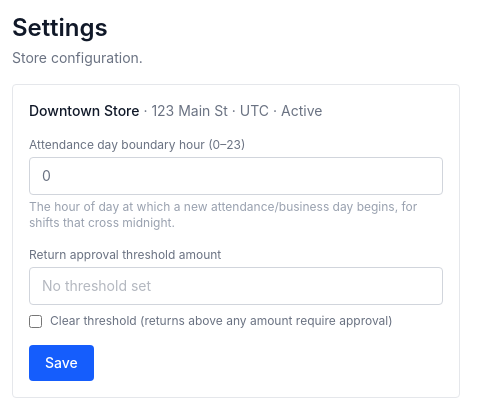
Scenario: SettingsPage › loads the acting user's own store automatically and can save changes
This screenshot has width=477, height=415.
Expected: the heading "Settings" is shown, [12, 13, 108, 42]
Expected: the text "Downtown Store" is shown, [29, 102, 140, 119]
Replace the text in the number field labelled "Attendance day boundary hour (0–23)" with "6": (236, 176) [29, 157, 443, 195]
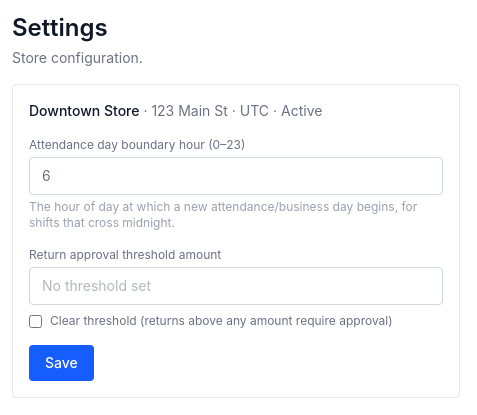
Click the button "Save": (61, 363) [29, 345, 94, 381]
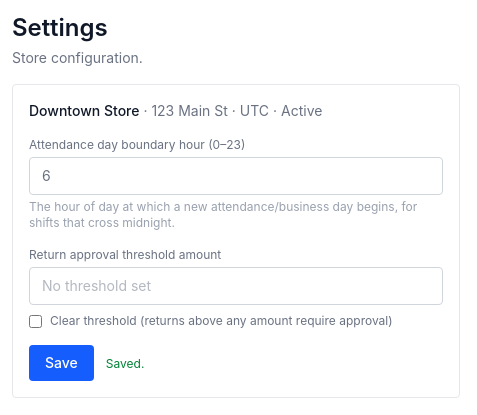
Expected: the text "Saved." is shown, [106, 356, 144, 371]
